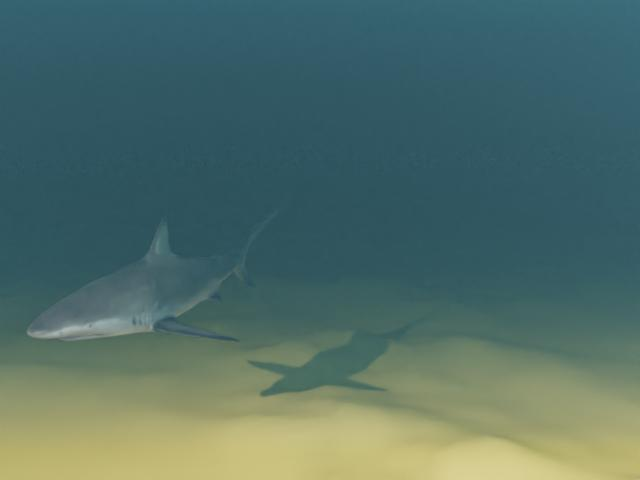Carribean Shark.001: (26, 202, 288, 341)
